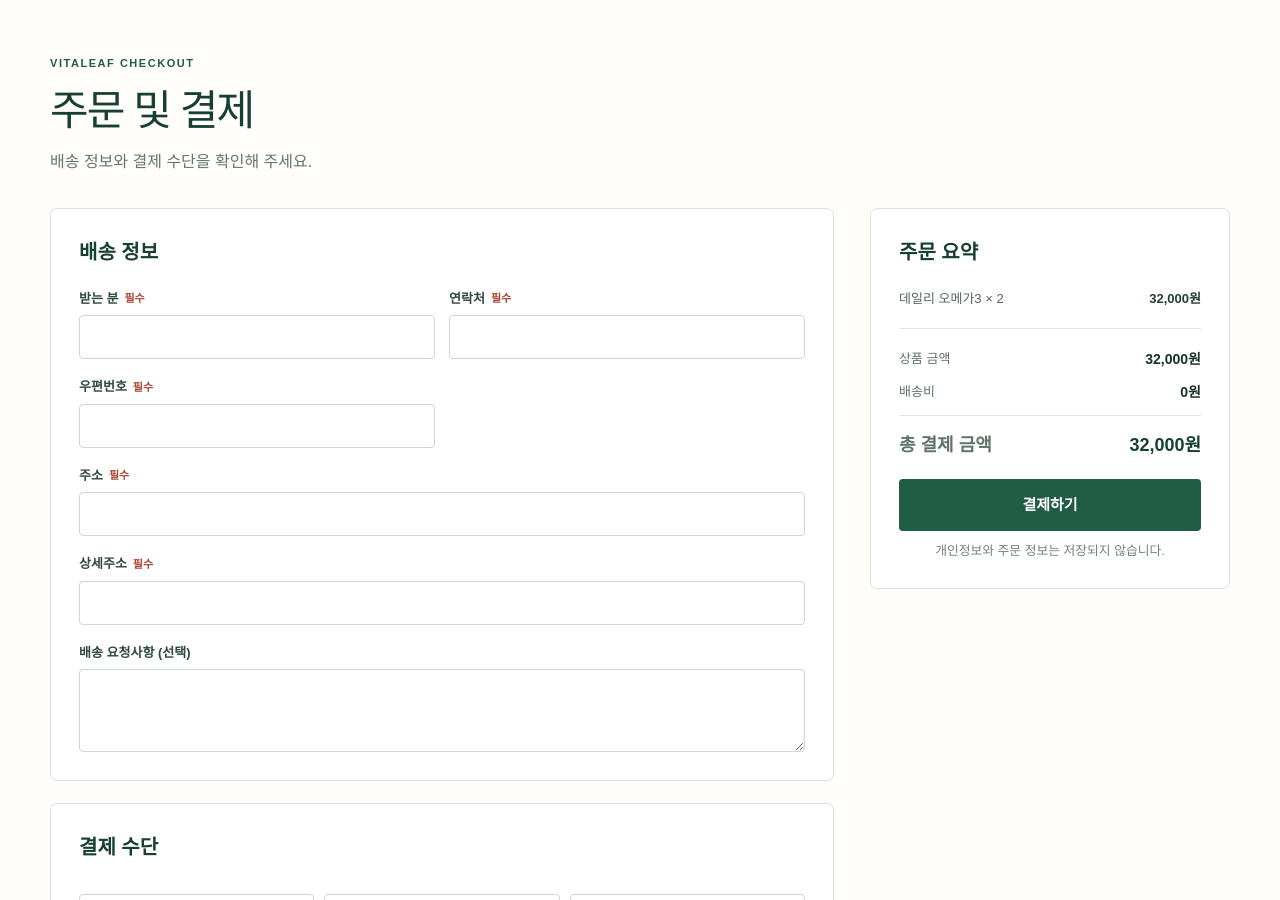
Test: focuses the first required or malformed field
Click the button "결제하기": point(1050, 505) x1=899 y1=479 x2=1201 y2=531
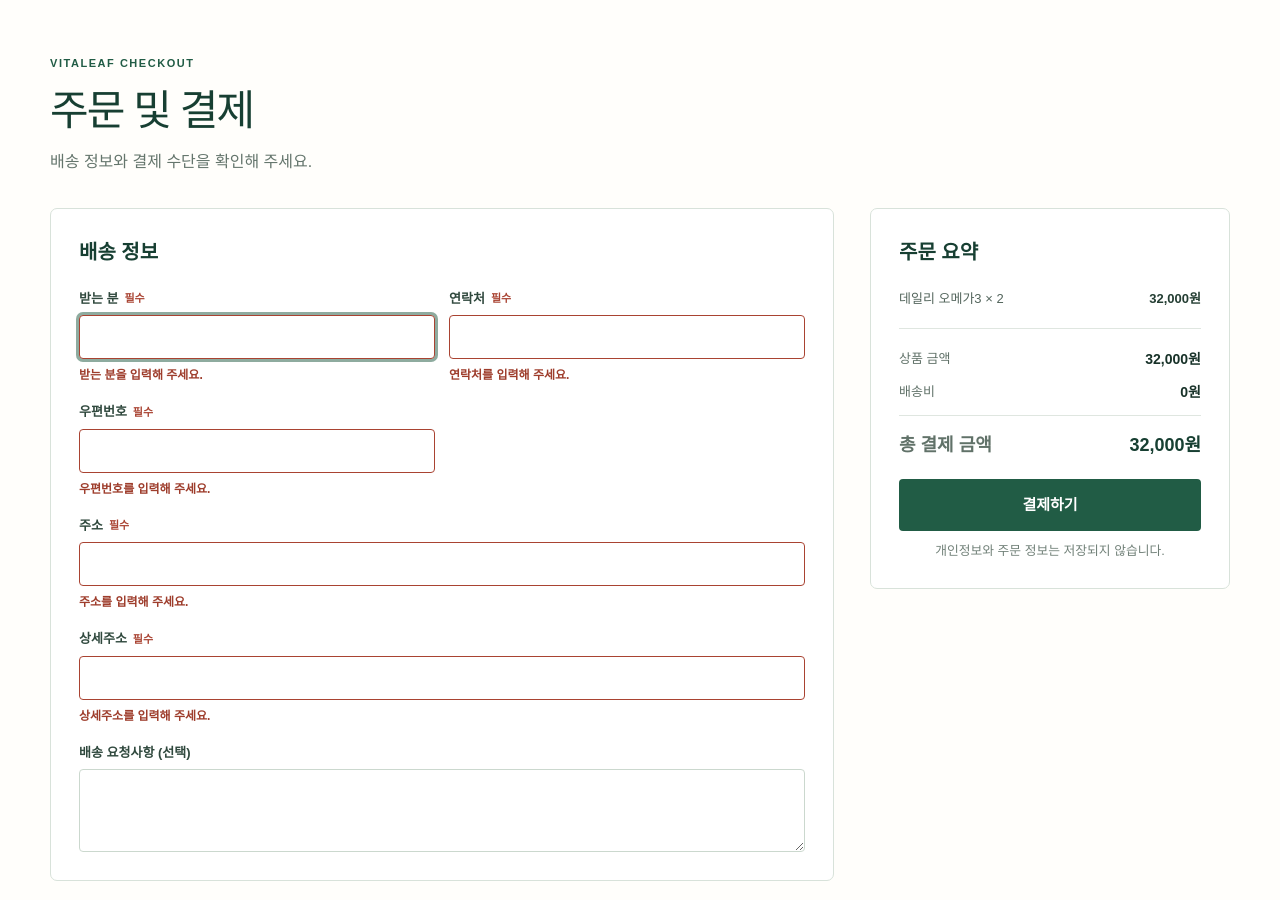
Result: the text "받는 분을 입력해 주세요." is shown at x1=79 y1=368 x2=203 y2=382
In the field labelled "받는 분": point(257, 337) x1=79 y1=315 x2=435 y2=359, type "홍길동"
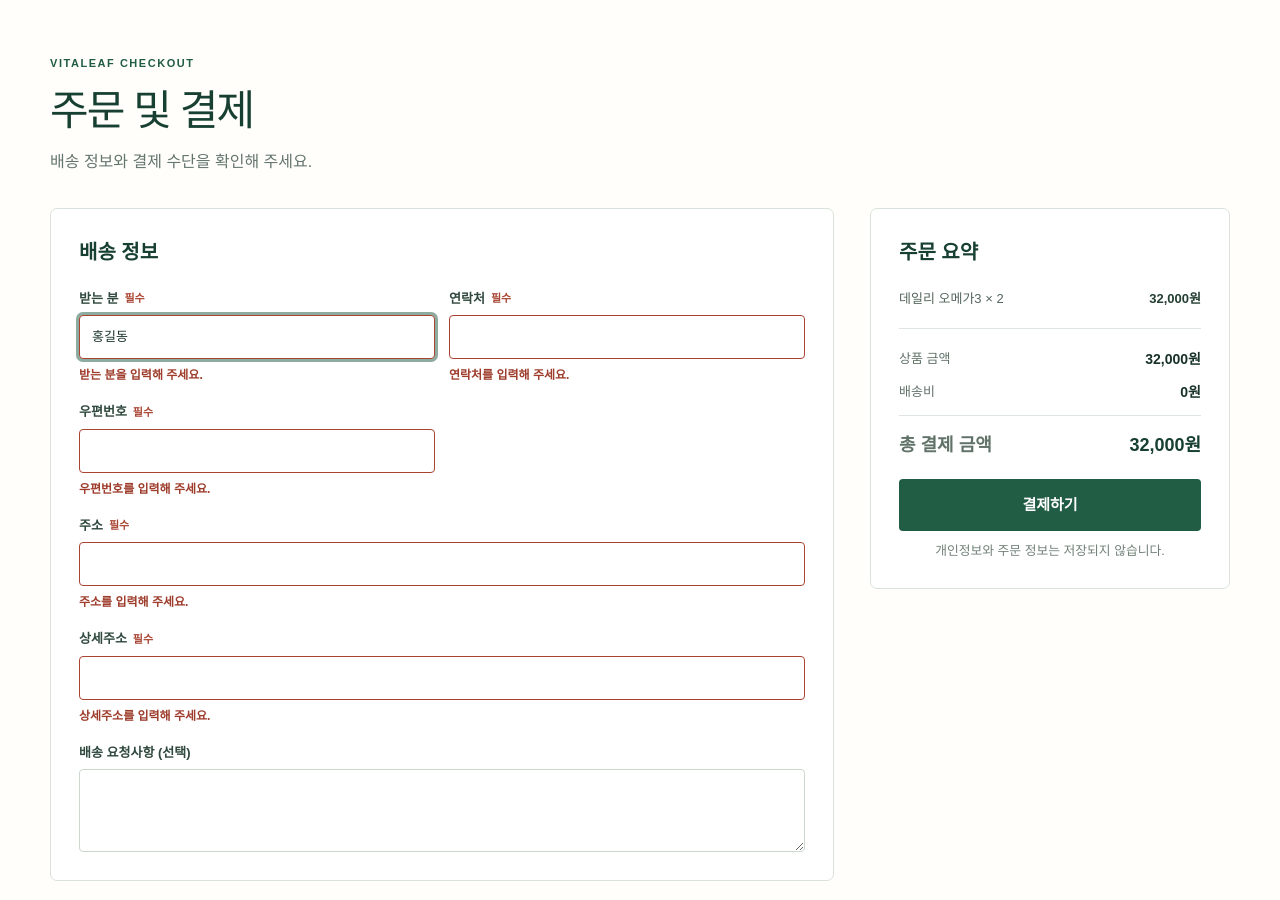
In the field labelled "연락처": point(627, 337) x1=449 y1=315 x2=805 y2=359, type "1234"
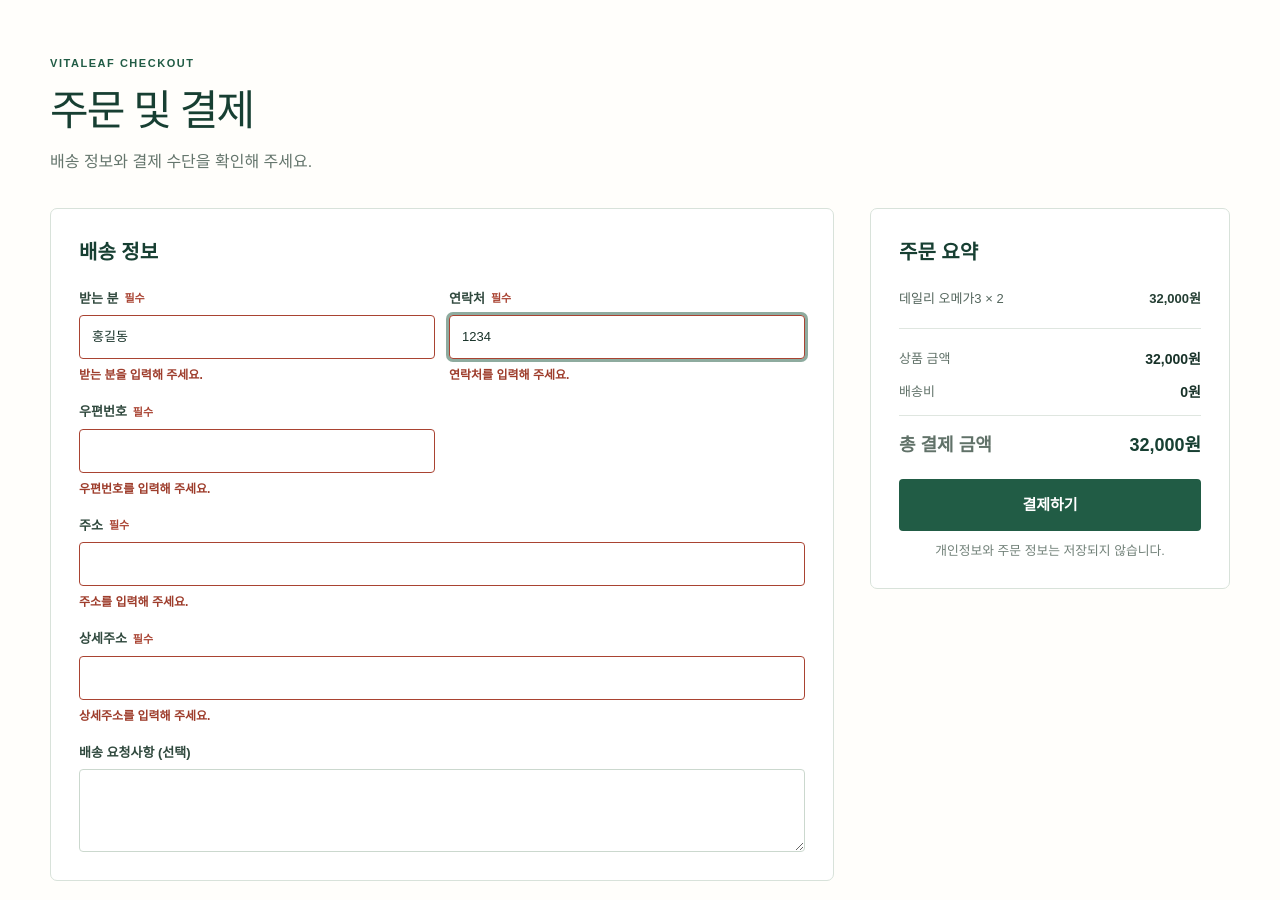
Click the button "결제하기": point(1050, 505) x1=899 y1=479 x2=1201 y2=531
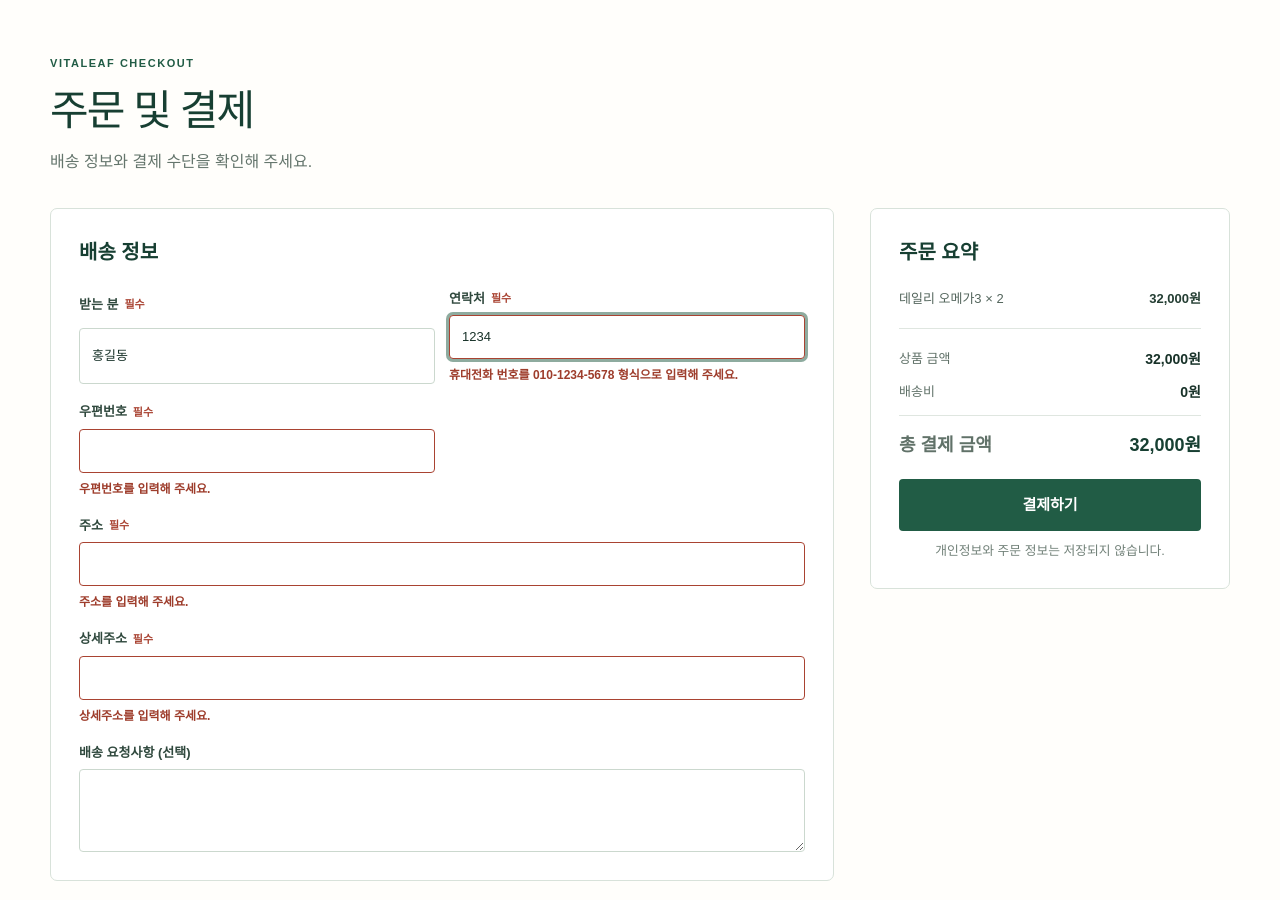
Result: the text "휴대전화 번호를 010-1234-5678 형식으로 입력해 주세요." is shown at x1=449 y1=368 x2=738 y2=382
